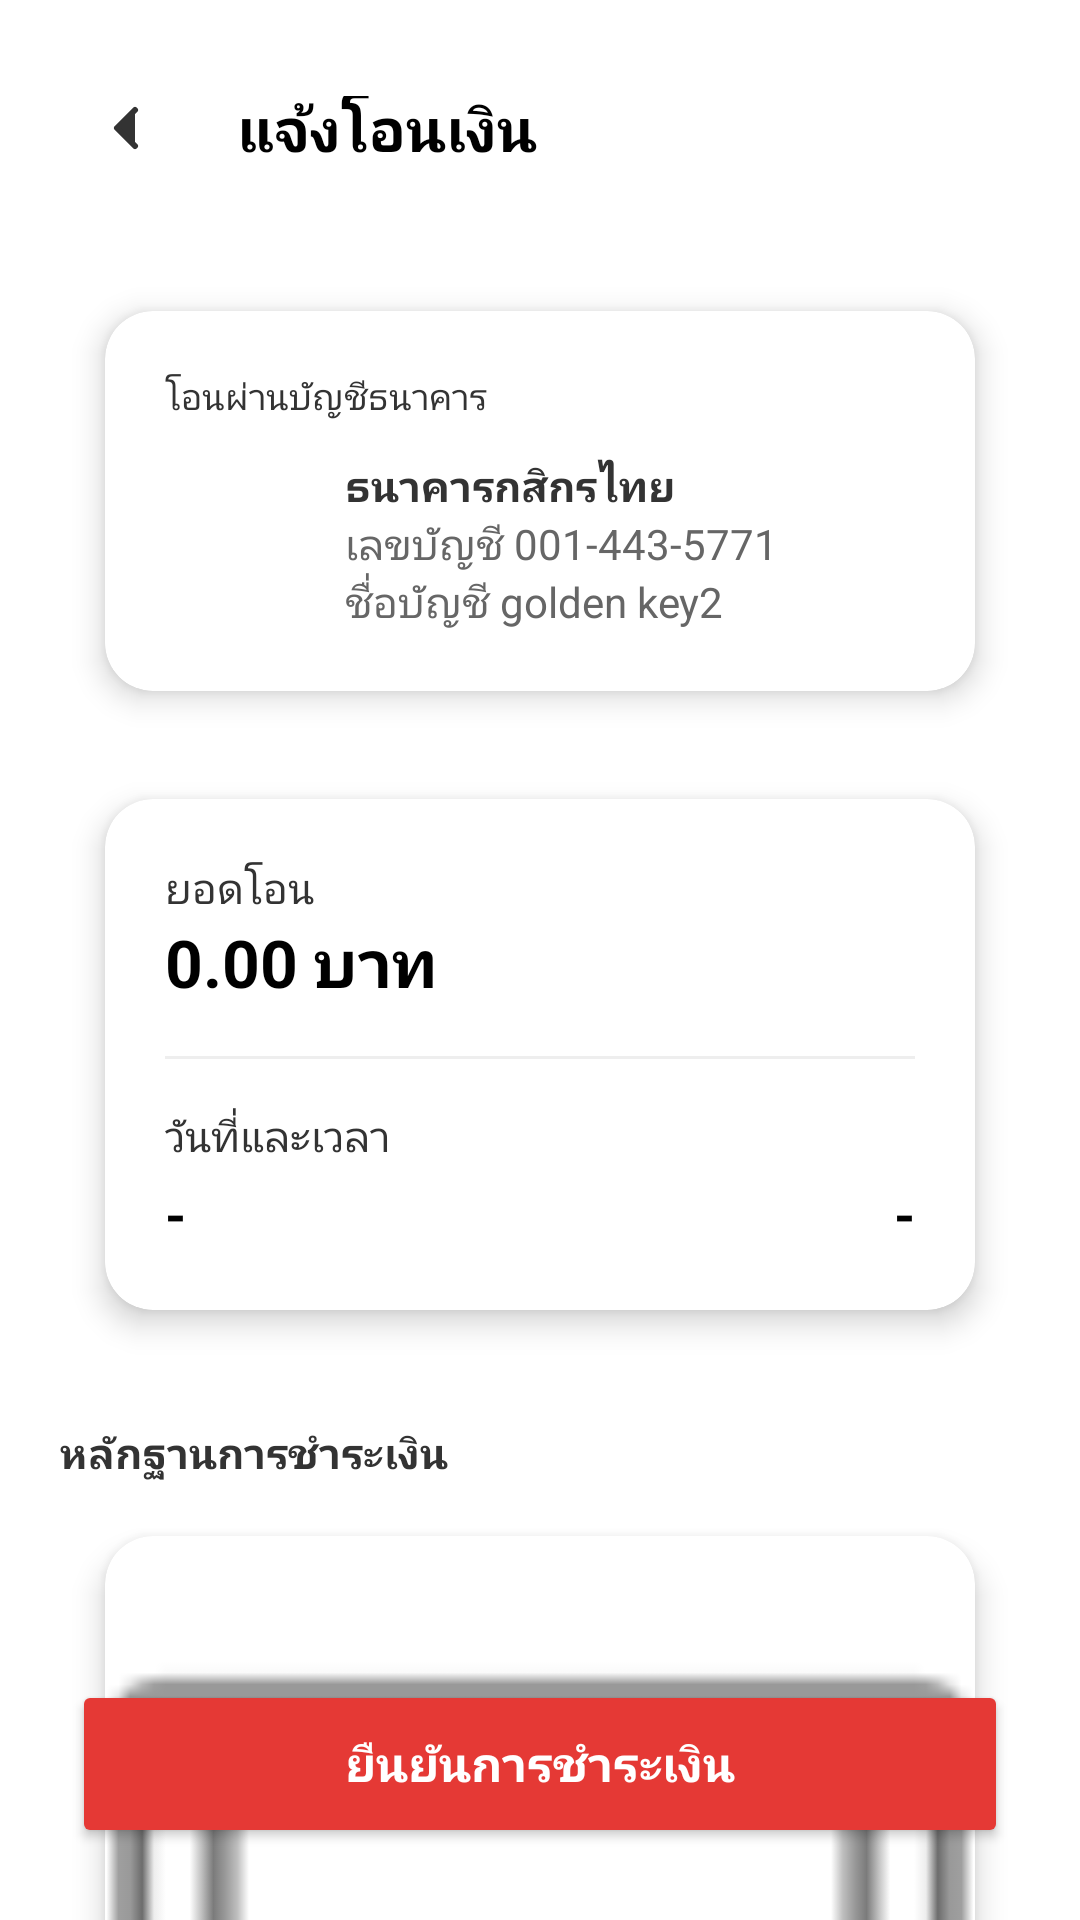

Icon bounding boxes for this 1080px x 1920px phone screenshot, format (x1, y1, x2, y2):
back gg: (114, 107, 138, 149)
